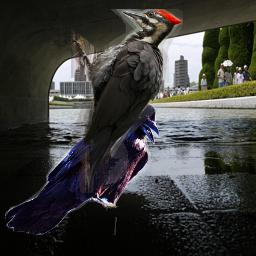Crow: (5, 102, 159, 235)
Woodpecker: (71, 9, 183, 193)
